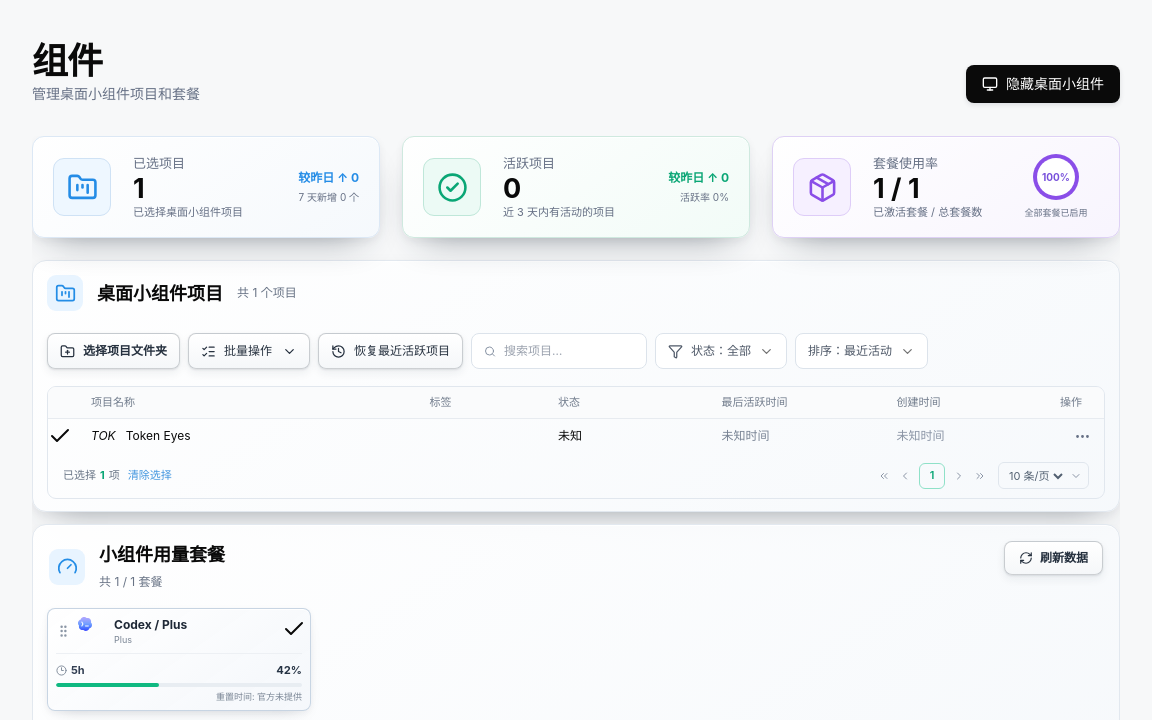
Test: WidgetsPage Windows desktop widget › keeps real project and plan settings available in the final manager
The image size is (1152, 720).
Click the button "批量操作": click(249, 351) [188, 333, 310, 369]
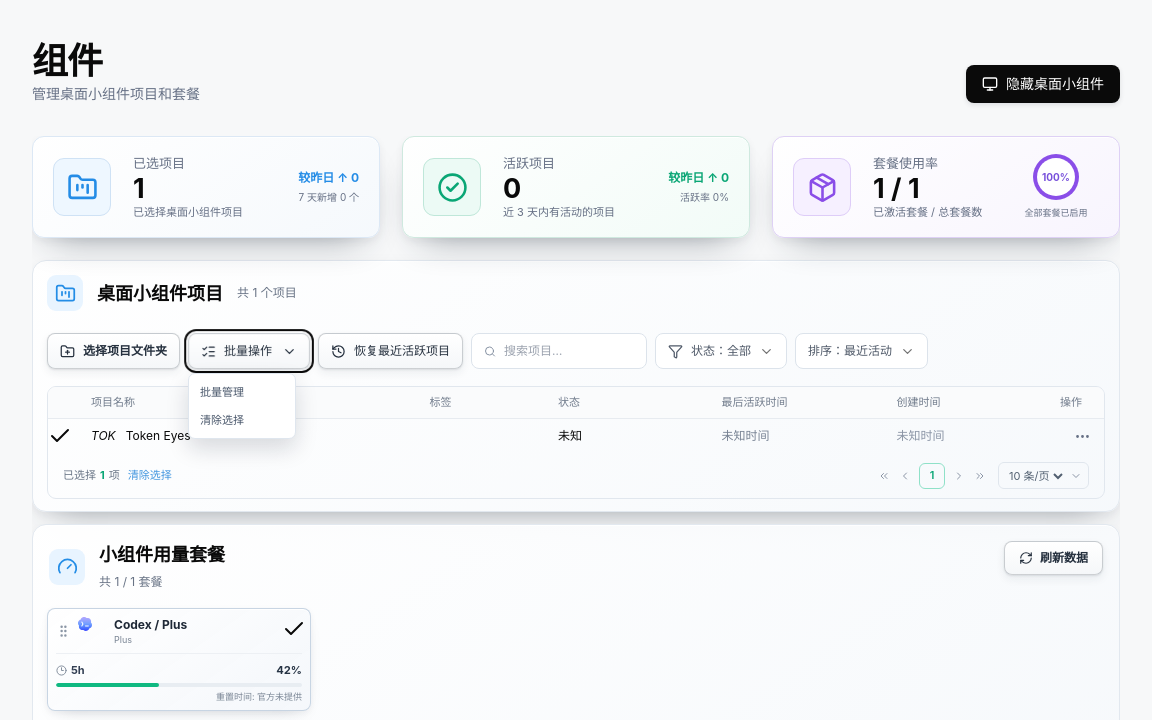
Click the menu item "批量管理": click(242, 392) [193, 378, 291, 406]
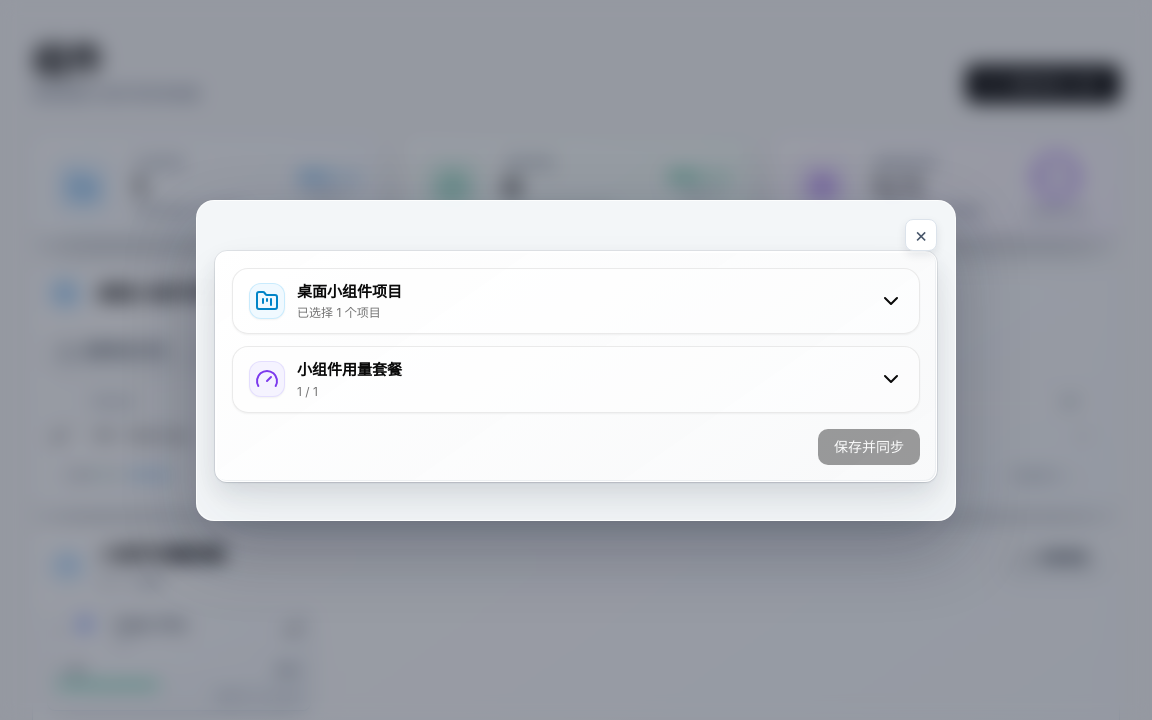
Click the button "桌面小组件项目 已选择 1 个项目": click(267, 301) [233, 268, 919, 333]
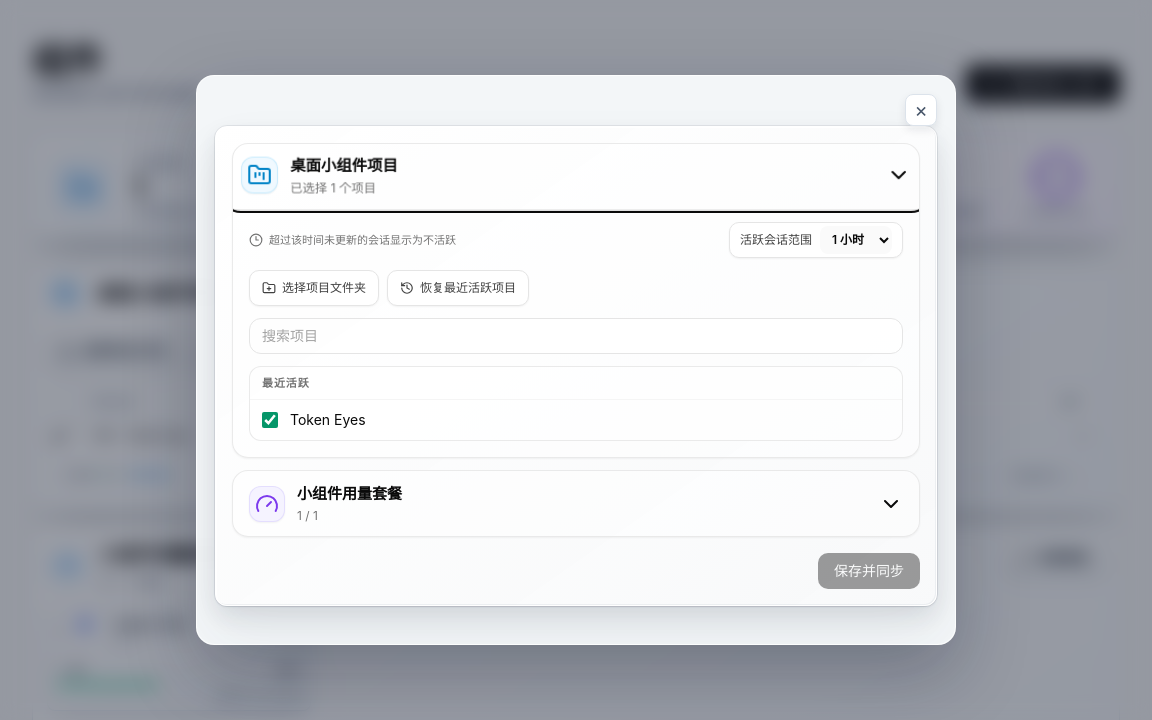
Result: the search field labelled "搜索项目" is shown at [249, 318, 903, 354]
Result: the dropdown labelled "活跃会话范围" is shown at [820, 226, 892, 254]
Result: the button "选择项目文件夹" is shown at [249, 270, 379, 306]
Click the button "小组件用量套餐 1 / 1": click(267, 504) [233, 471, 919, 536]
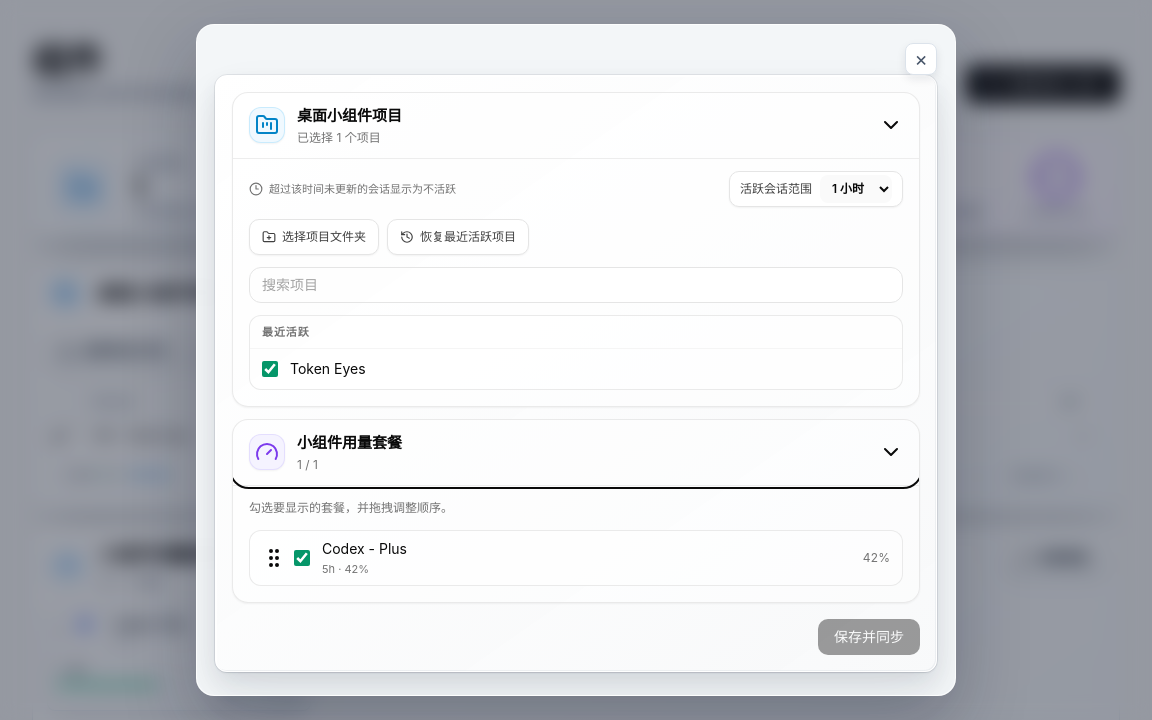
Result: the checkbox labelled "Codex - Plus" is checked at [294, 550, 310, 566]
